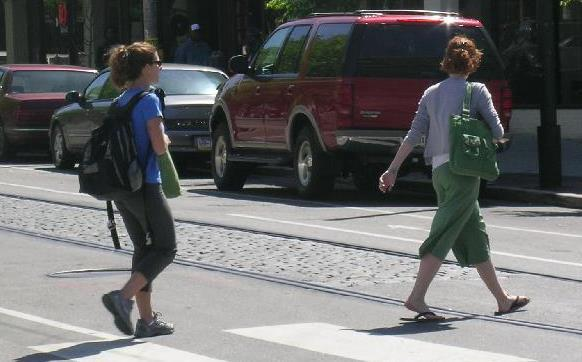person: (381, 36, 529, 323), (80, 44, 177, 337)
